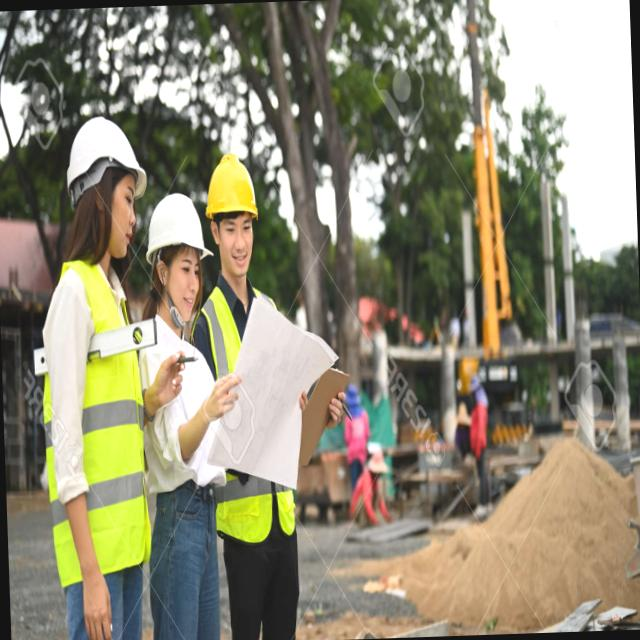helmet: (62, 112, 150, 209), (140, 182, 216, 278), (204, 147, 258, 223)
no-goggles: (84, 181, 146, 222), (154, 256, 208, 290), (212, 215, 257, 249)
no-vest: (146, 330, 210, 500)
vest: (35, 254, 150, 591), (208, 288, 297, 548)
